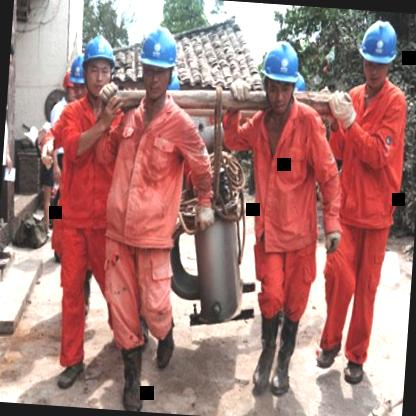helmet: (254, 34, 305, 124), (134, 20, 184, 106), (355, 12, 402, 92), (75, 30, 119, 102), (67, 54, 91, 106), (58, 64, 78, 106)
